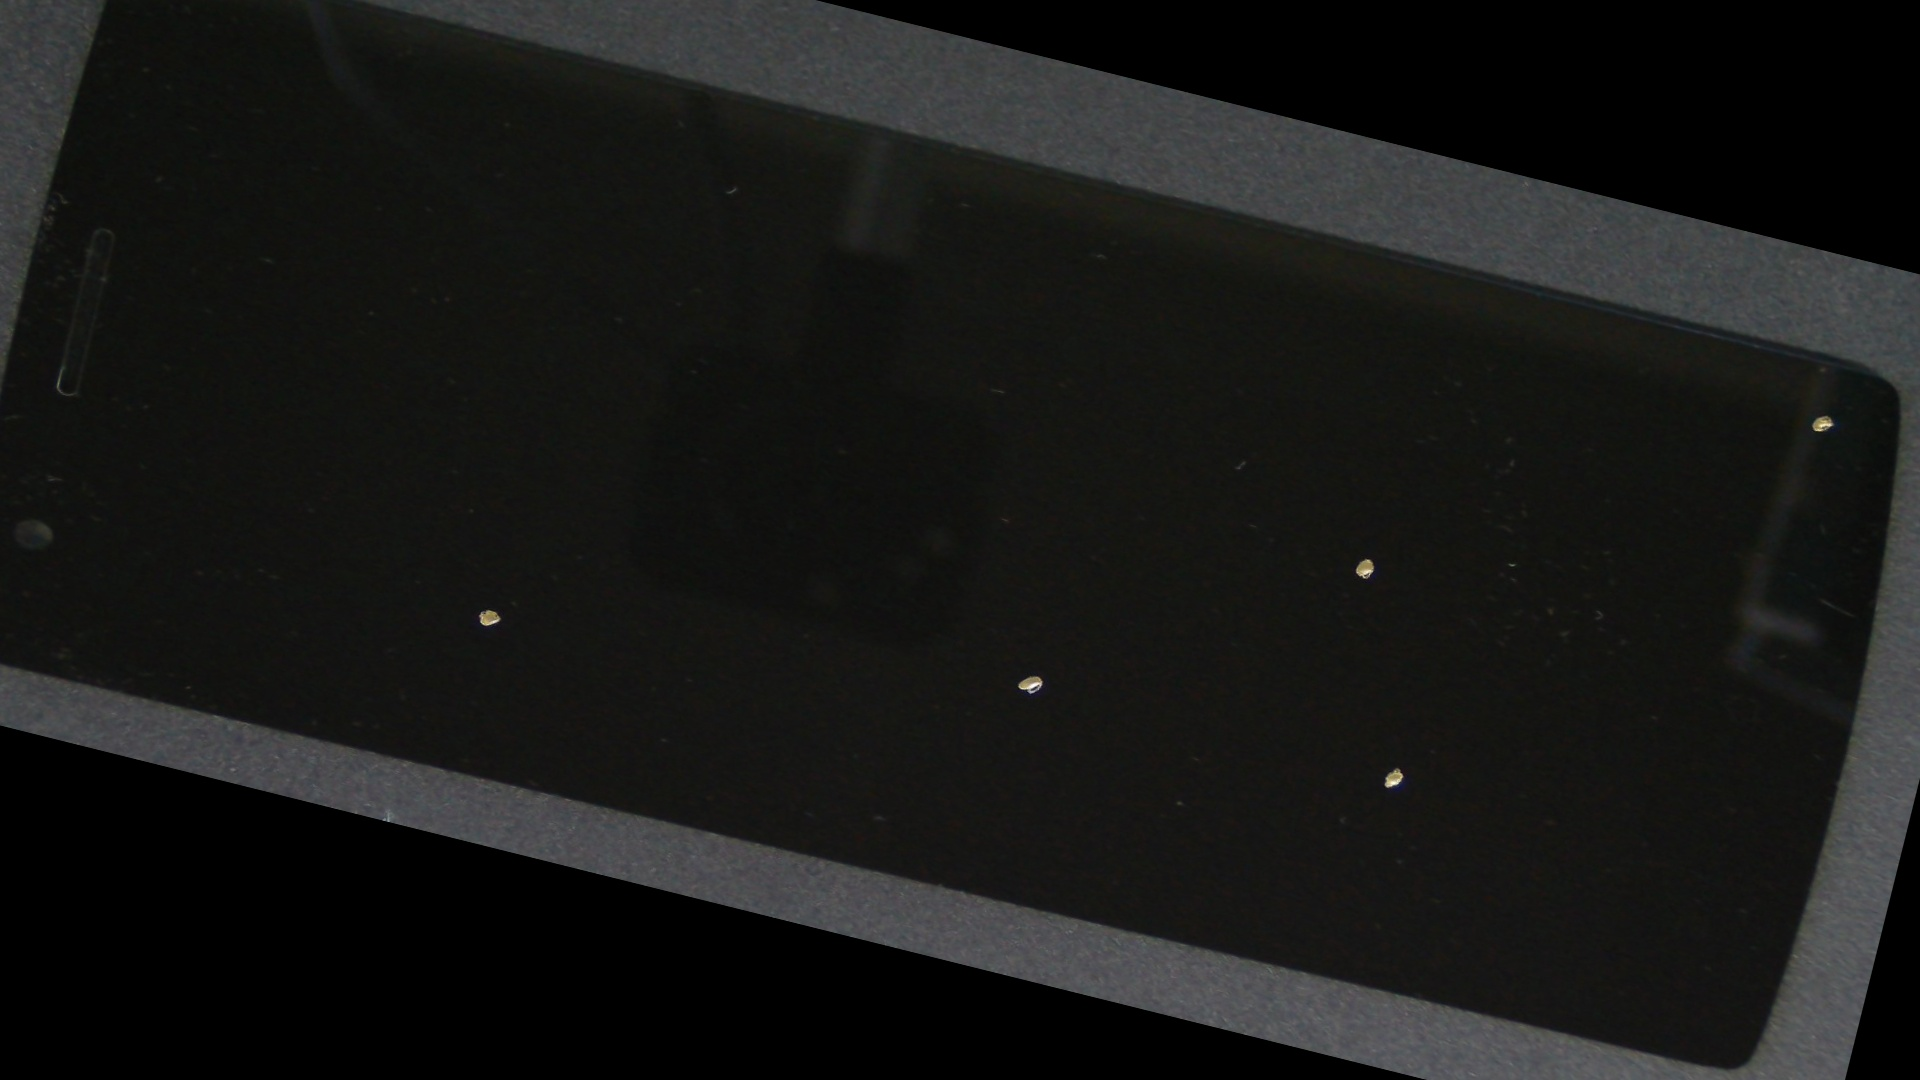oil: (384, 238, 1689, 1080), (565, 284, 1920, 1080), (595, 180, 1920, 899), (119, 205, 886, 912), (885, 108, 1920, 536)
